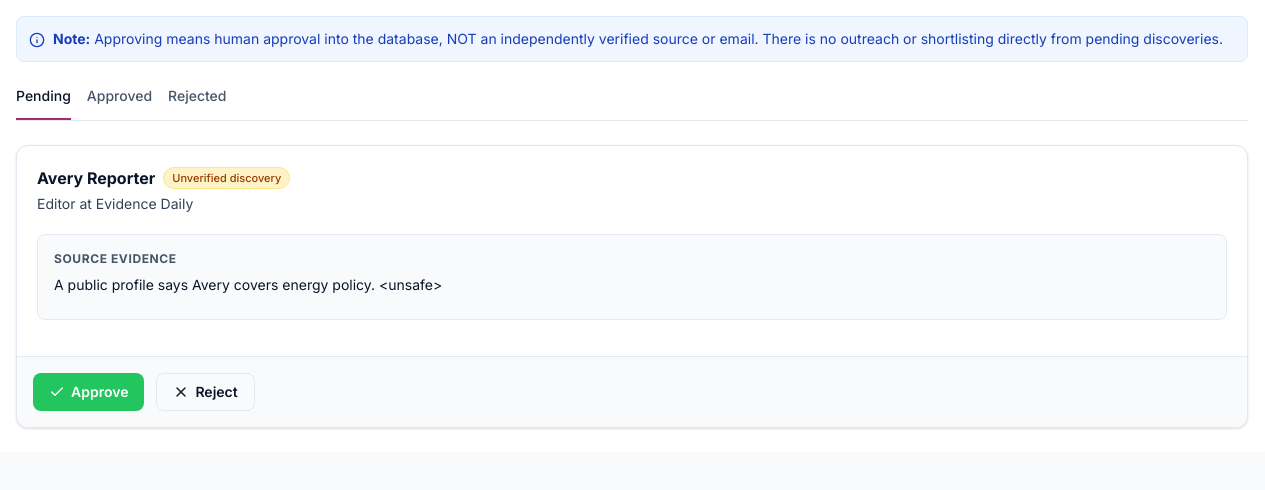
MediaDiscoveryReview › shows an approval 403 failure without claiming success
Expected: the element with test id "card-discovery-42" is shown, top-left (16, 145), bottom-right (1248, 428)
Click the button with test id "button-approve-42": (89, 392) top-left (33, 373), bottom-right (144, 411)
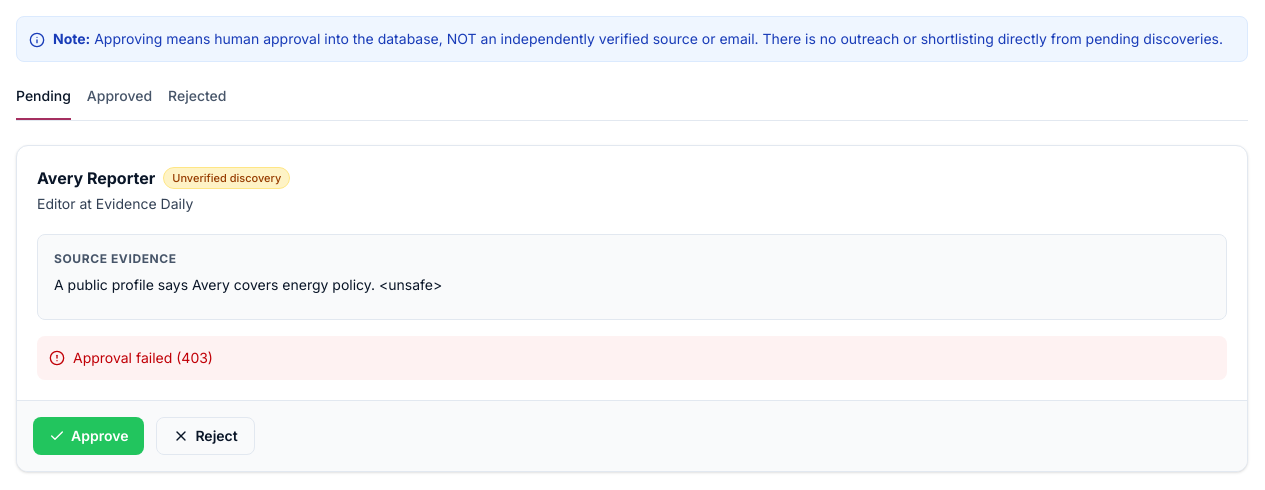
Expected: the text "Approval failed (403)" is shown, top-left (37, 336), bottom-right (1227, 380)
